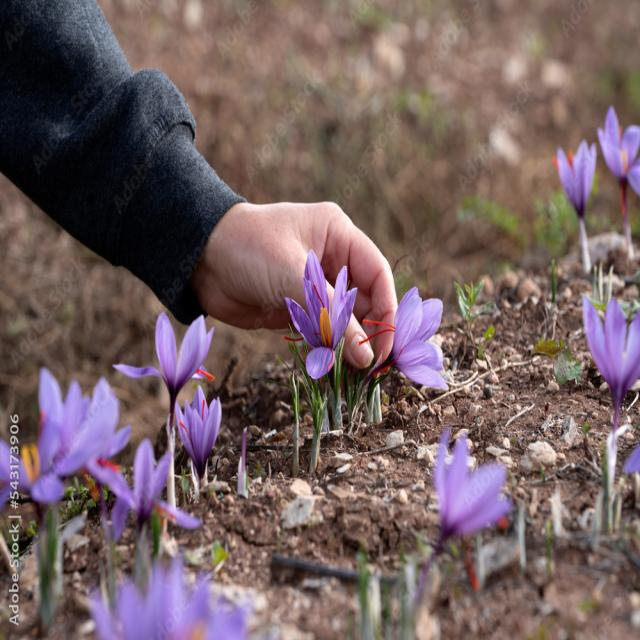saffron open: (91, 439, 200, 587), (12, 367, 119, 504), (114, 313, 214, 427), (434, 429, 511, 553), (285, 249, 358, 379), (582, 296, 640, 433), (371, 287, 448, 390), (598, 107, 640, 259), (555, 141, 596, 274), (175, 386, 221, 480), (0, 440, 11, 510)
